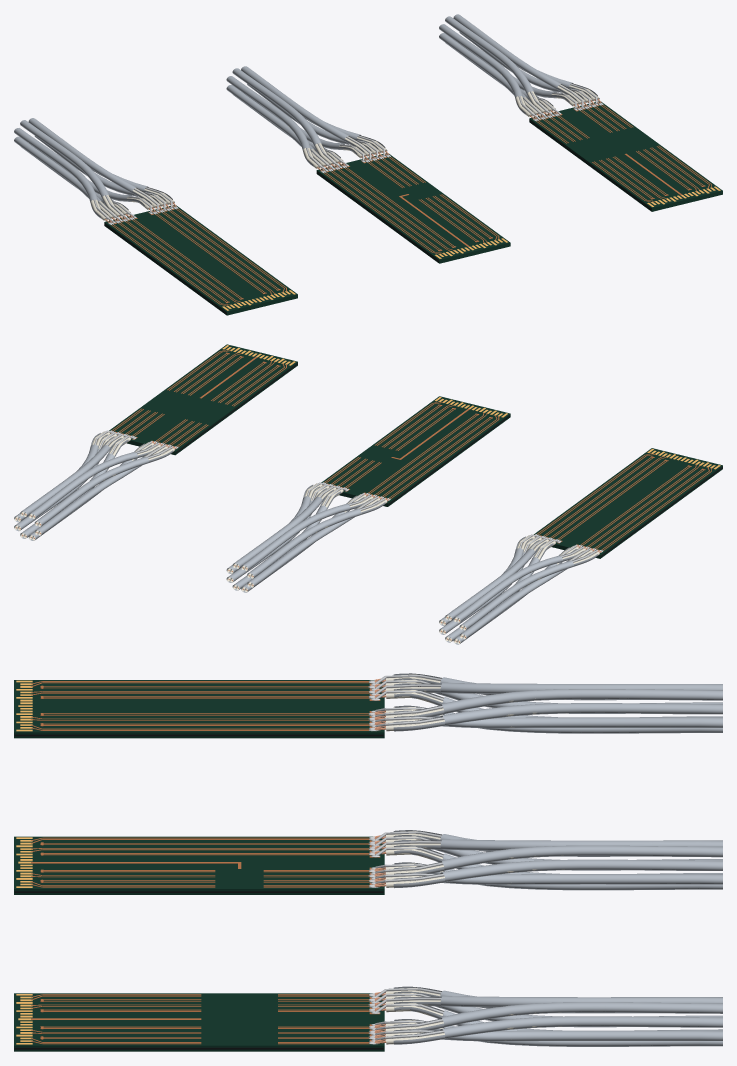
Rendered from copper-internals.glb.
3 views of the same model, one above another, from view 1: azimuth 30°, elevation 25°; view 2: azimuth 150°, elevation 25°; view 3: azimuth 270°, elevation 25° (orthographic). The views are drawn at different scales.
Visible parts, largest first — view 1: REFERENCE_copper-internals_0000, REFERENCE_copper-internals_0008, REFERENCE_copper-internals_0003, REFERENCE_copper-internals_0006, REFERENCE_copper-internals_0007, REFERENCE_copper-internals_0002, REFERENCE_copper-internals_0001, REFERENCE_copper-internals_0005; view 2: REFERENCE_copper-internals_0000, REFERENCE_copper-internals_0008, REFERENCE_copper-internals_0003, REFERENCE_copper-internals_0006, REFERENCE_copper-internals_0007, REFERENCE_copper-internals_0002, REFERENCE_copper-internals_0001; view 3: REFERENCE_copper-internals_0000, REFERENCE_copper-internals_0008, REFERENCE_copper-internals_0003, REFERENCE_copper-internals_0007, REFERENCE_copper-internals_0006, REFERENCE_copper-internals_0001, REFERENCE_copper-internals_0002, REFERENCE_copper-internals_0004, REFERENCE_copper-internals_0005.
Boxes of the visible parts, x1=… form: REFERENCE_copper-internals_0000: x1=104, y1=101, x2=722, y2=315; REFERENCE_copper-internals_0008: x1=14, y1=14, x2=597, y2=218; REFERENCE_copper-internals_0003: x1=111, y1=104, x2=711, y2=305; REFERENCE_copper-internals_0006: x1=76, y1=73, x2=599, y2=220; REFERENCE_copper-internals_0007: x1=93, y1=84, x2=597, y2=221; REFERENCE_copper-internals_0002: x1=222, y1=186, x2=720, y2=310; REFERENCE_copper-internals_0001: x1=104, y1=120, x2=651, y2=313; REFERENCE_copper-internals_0005: x1=108, y1=103, x2=603, y2=224; REFERENCE_copper-internals_0000: x1=109, y1=344, x2=722, y2=558; REFERENCE_copper-internals_0008: x1=14, y1=433, x2=597, y2=644; REFERENCE_copper-internals_0003: x1=112, y1=349, x2=711, y2=550; REFERENCE_copper-internals_0006: x1=14, y1=431, x2=599, y2=643; REFERENCE_copper-internals_0007: x1=17, y1=430, x2=597, y2=640; REFERENCE_copper-internals_0002: x1=222, y1=345, x2=720, y2=469; REFERENCE_copper-internals_0001: x1=175, y1=363, x2=722, y2=556; REFERENCE_copper-internals_0000: x1=14, y1=680, x2=384, y2=1051; REFERENCE_copper-internals_0008: x1=393, y1=673, x2=722, y2=1046; REFERENCE_copper-internals_0003: x1=30, y1=681, x2=380, y2=1044; REFERENCE_copper-internals_0007: x1=375, y1=675, x2=444, y2=1040; REFERENCE_copper-internals_0006: x1=386, y1=674, x2=567, y2=1044; REFERENCE_copper-internals_0001: x1=14, y1=734, x2=383, y2=1049; REFERENCE_copper-internals_0002: x1=16, y1=680, x2=32, y2=1044; REFERENCE_copper-internals_0004: x1=374, y1=678, x2=386, y2=1043; REFERENCE_copper-internals_0005: x1=368, y1=680, x2=380, y2=1044.
Bounding box in the file's own units: 0.1078 × 0.00589 × 0.088.
